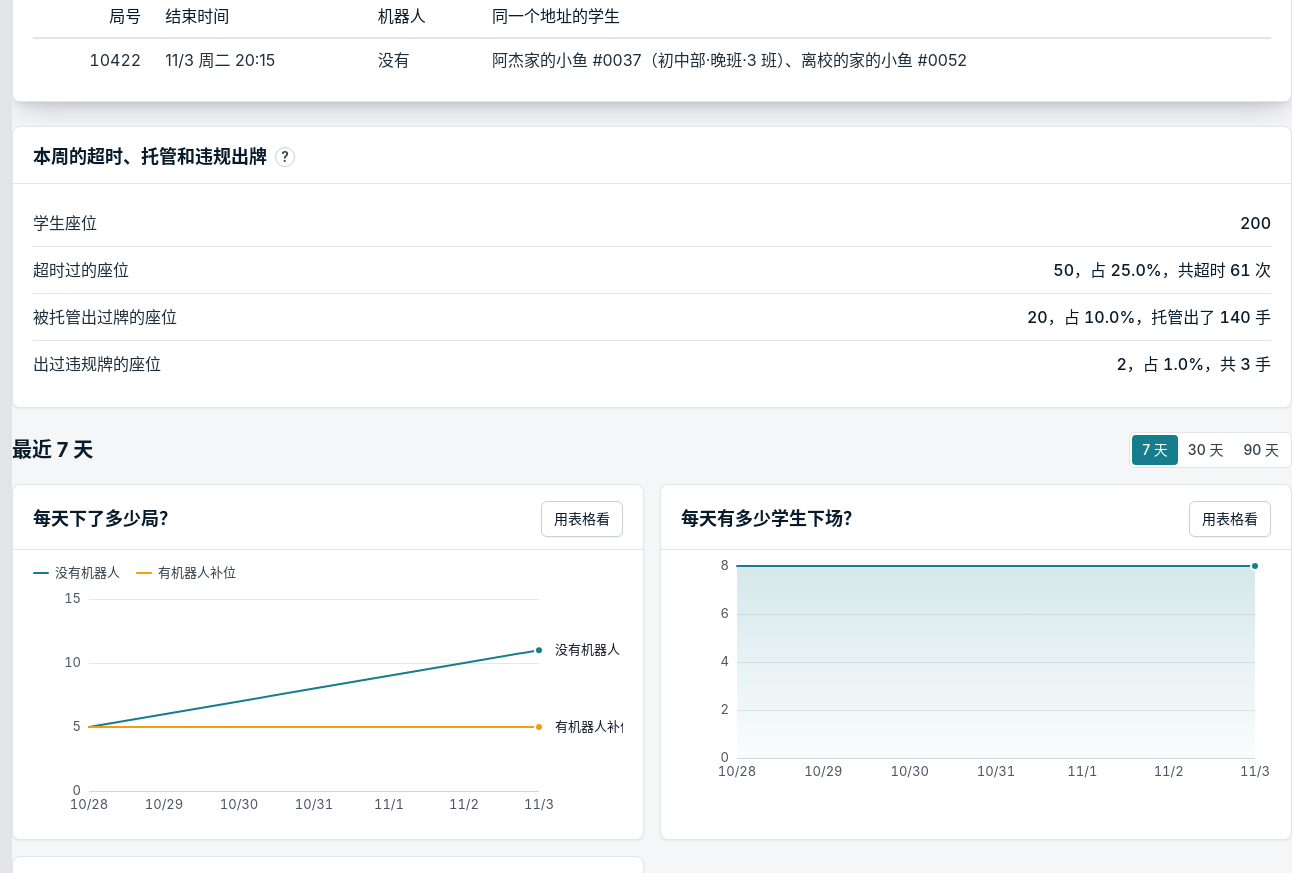
Test: the clubs page › reads another range on asking, and says why it could not
(page scrolled)
Expected: the heading "最近 7 天" is shown, [12, 436, 93, 464]
Step 1. Click the radio button labelled "30 天" → (1206, 450), box [1188, 441, 1223, 458]
(page scrolled)
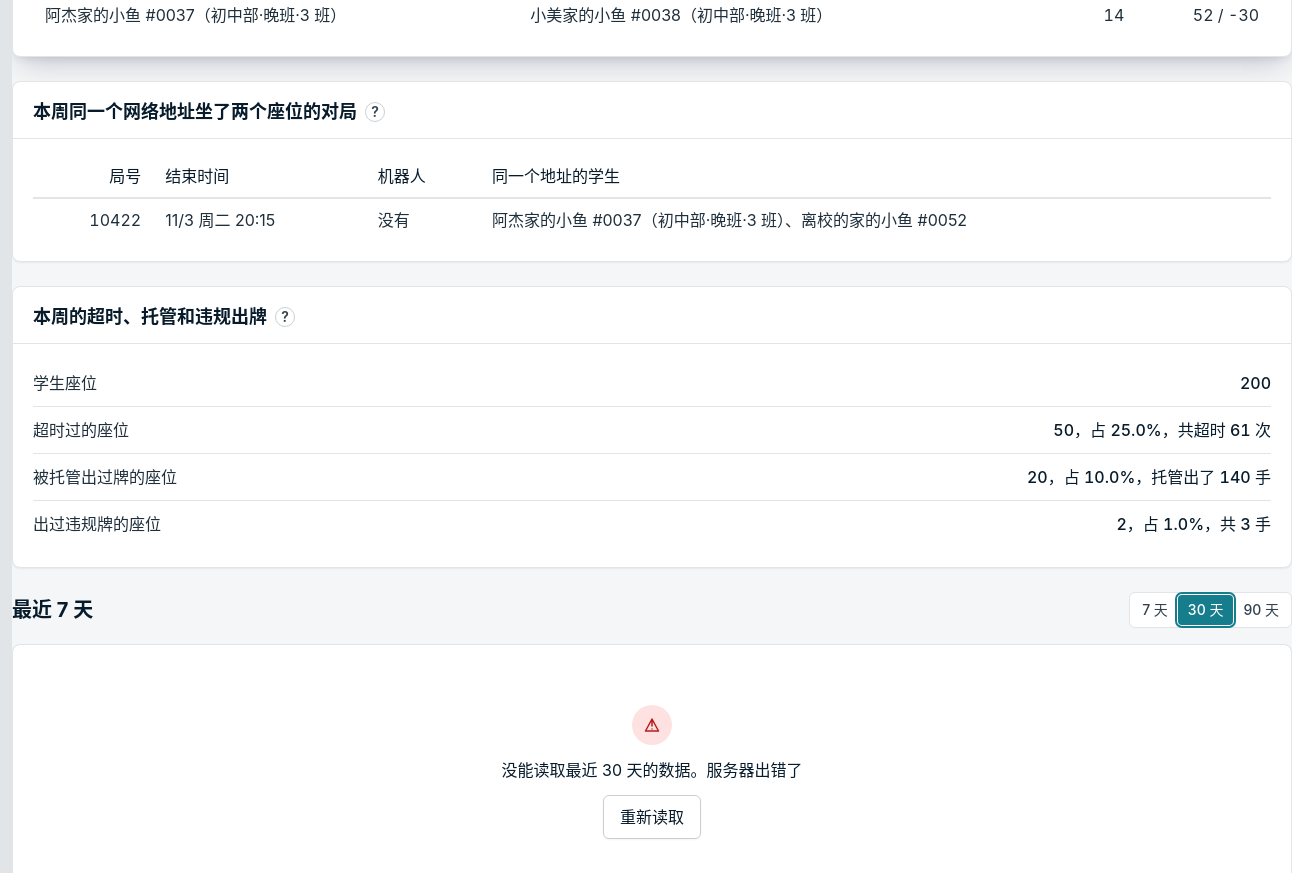
Result: the text "服务器出错了" is shown at [706, 760, 802, 780]
